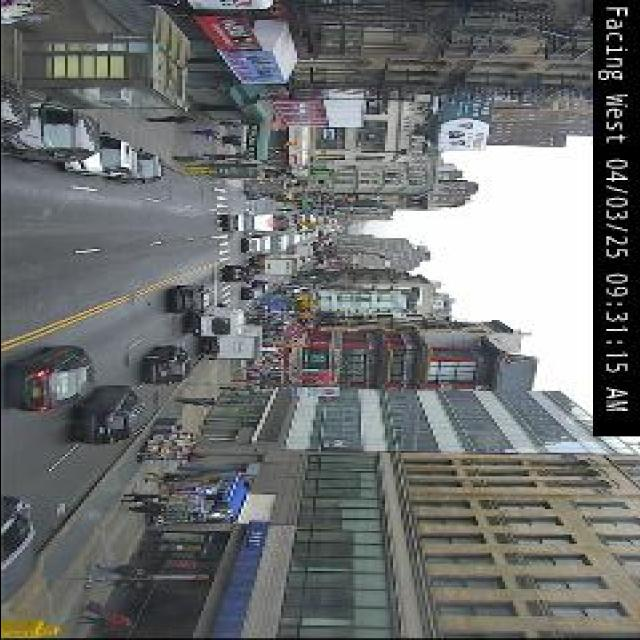parkedCars: (3, 89, 196, 189)
